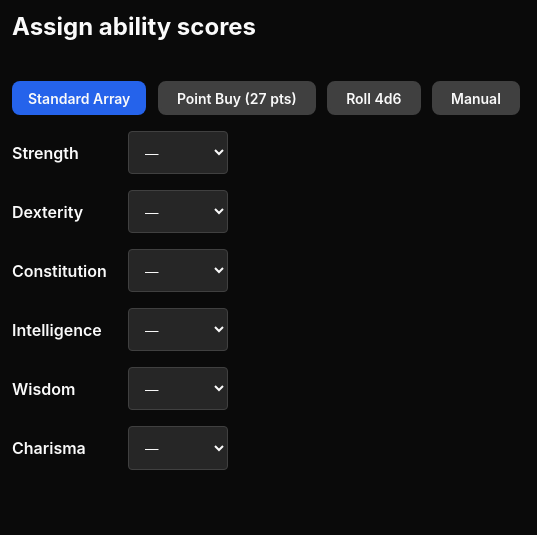
it: AbilitiesStep › roll mode › shows re-roll button after rolling
Click the button "Roll 4d6": (374,98) [327, 81, 420, 115]
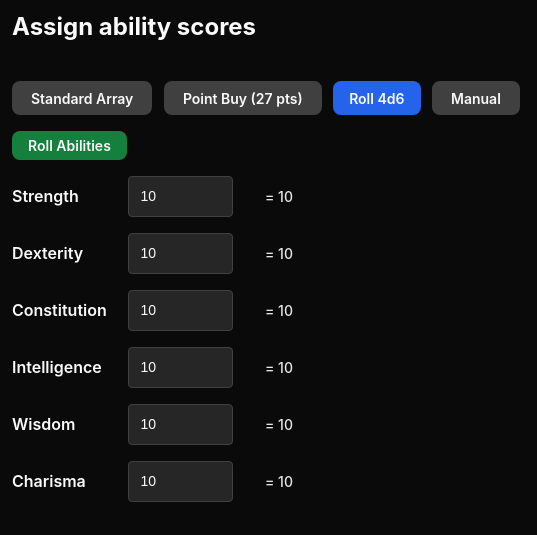
Click the button "Roll Abilities": (69,146) [12, 131, 127, 160]
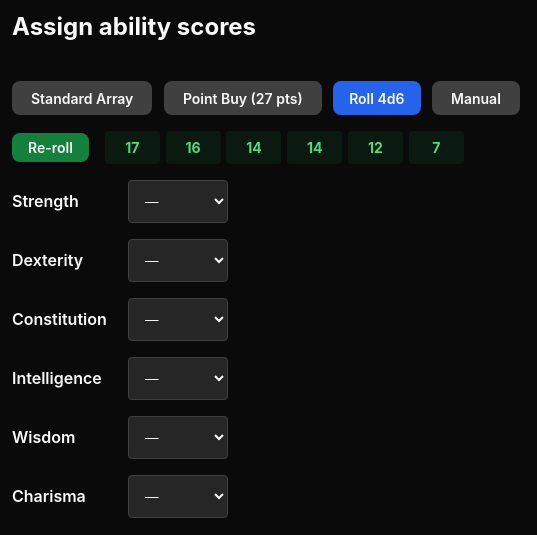
Result: the button "Re-roll" is shown at [12, 133, 89, 162]
